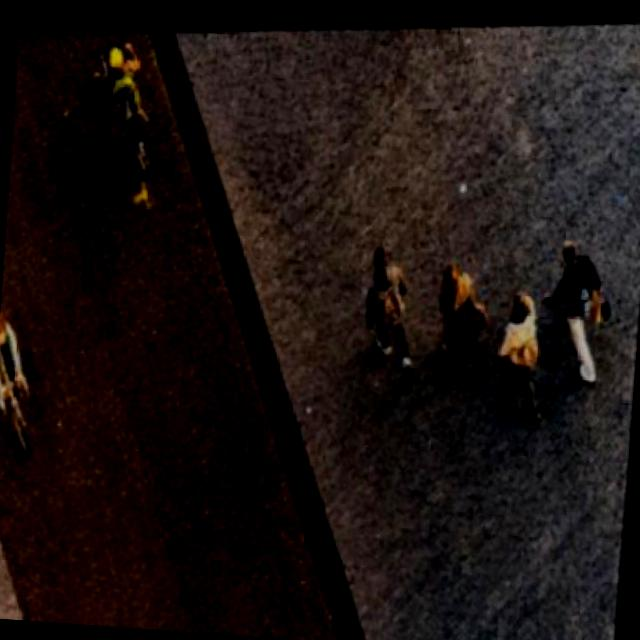Person: (548, 232, 620, 388), (488, 276, 560, 426), (363, 234, 426, 373), (432, 250, 493, 372), (88, 23, 146, 104), (0, 287, 42, 397)
